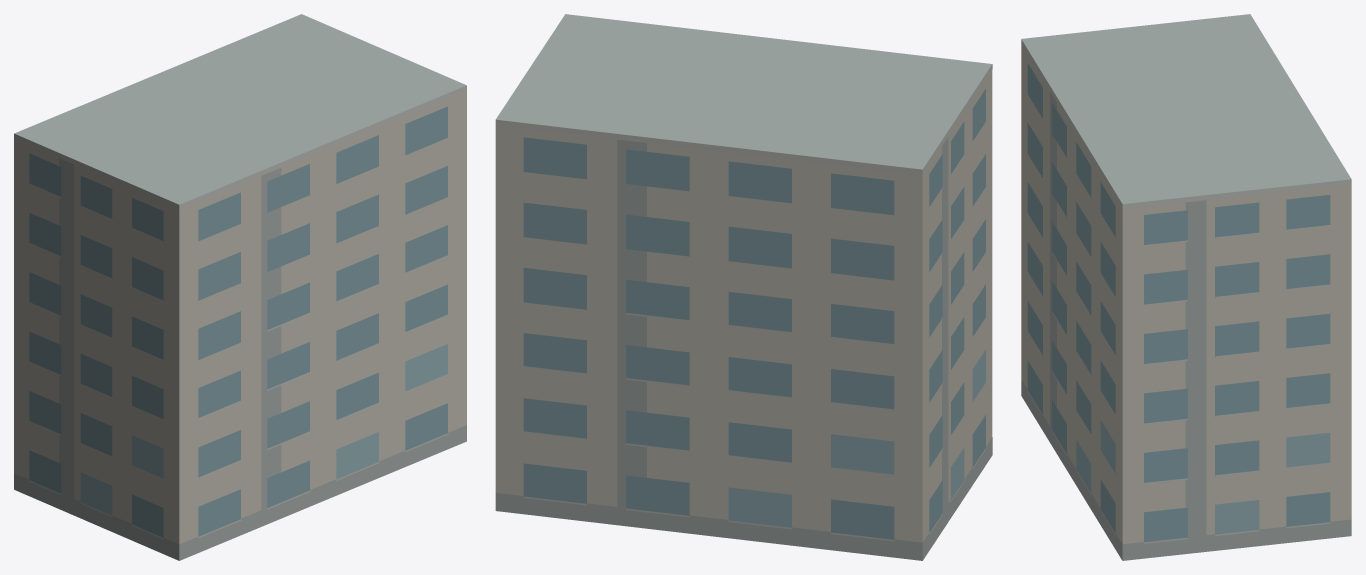
The model's file is survey-upis-32649462.glb.
The picture shows the model from 3 angles, left to right: view 1: azimuth 30°, elevation 25°; view 2: azimuth 150°, elevation 25°; view 3: azimuth 270°, elevation 25°; orthographic projection. The views are drawn at different scales.
Visible parts, largest first — view 1: survey-upis-32649462.tmp; view 2: survey-upis-32649462.tmp; view 3: survey-upis-32649462.tmp.
Boxes of the visible parts, x1,y1,x2,y2 form: survey-upis-32649462.tmp: (14, 14, 466, 560); survey-upis-32649462.tmp: (495, 14, 992, 560); survey-upis-32649462.tmp: (1021, 14, 1351, 560).
Size of the model in its own units: 19.33 by 16.9 by 14.19.
